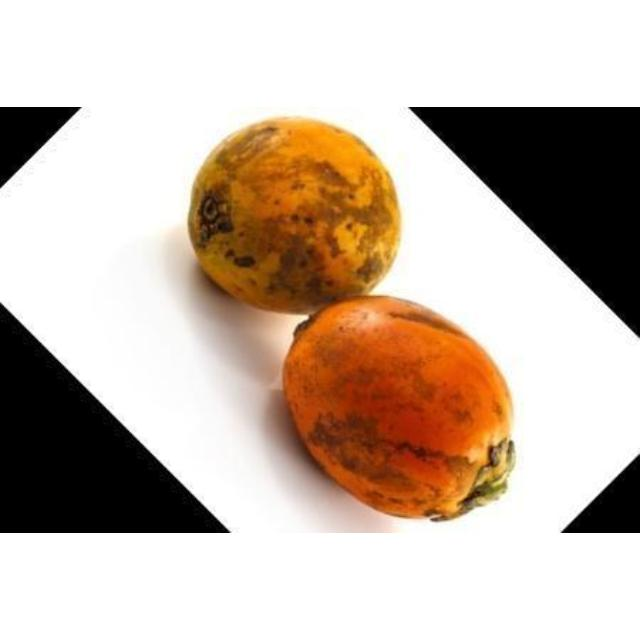good: (283, 296, 519, 522), (185, 117, 402, 317)
